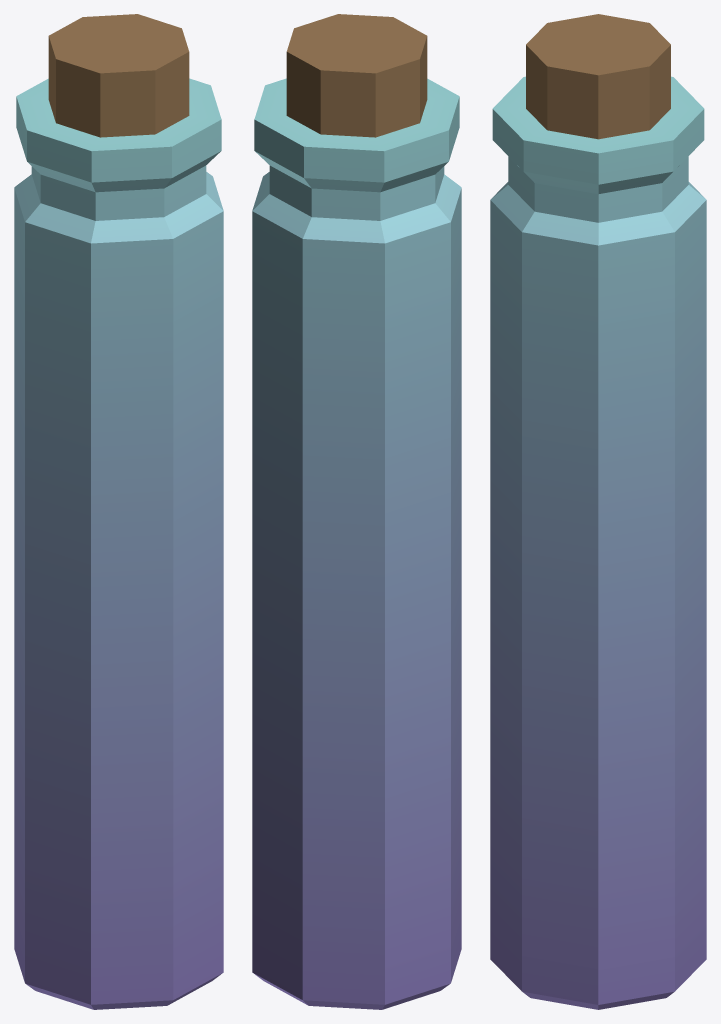
Rendered from VialLarge.fbx.
3 renders of one model, left to right at view 1: azimuth 30°, elevation 25°; view 2: azimuth 150°, elevation 25°; view 3: azimuth 270°, elevation 25°, orthographic.
Parts seen in each view (by area): view 1: VialLarge; view 2: VialLarge; view 3: VialLarge.
Boxes of the visible parts, <box> form: VialLarge: <box>14,14,223,1009</box>; VialLarge: <box>252,14,461,1009</box>; VialLarge: <box>490,14,706,1009</box>.
Size of the model in its own units: 5 by 23.57 by 5.
